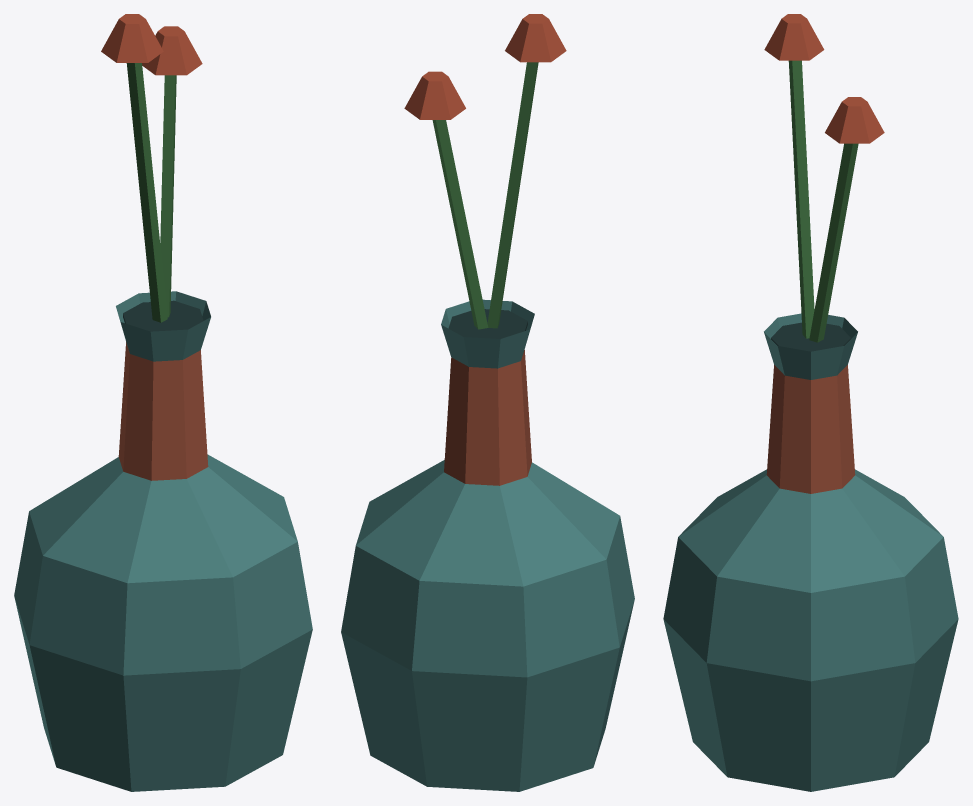
File: vase-31.glb
The picture shows the model from 3 angles, left to right: view 1: azimuth 30°, elevation 25°; view 2: azimuth 150°, elevation 25°; view 3: azimuth 270°, elevation 25°; orthographic projection. The views are drawn at different scales.
Parts seen in each view (by area): view 1: vase_31; view 2: vase_31; view 3: vase_31.
Boxes of the visible parts, bbox=[...] form: vase_31: bbox=[14, 14, 312, 791]; vase_31: bbox=[341, 14, 634, 791]; vase_31: bbox=[663, 14, 958, 791].
Bounding box in the file's own units: 0.3439 × 0.9061 × 0.3439.
